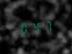four: (30, 20, 40, 33)
seven: (41, 19, 51, 32)
zero: (18, 21, 28, 34)
